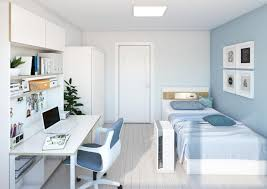Bed: (160, 83, 267, 189)
Chair: (72, 117, 131, 189)
Closet: (63, 44, 109, 127)
Table: (12, 113, 102, 189)
